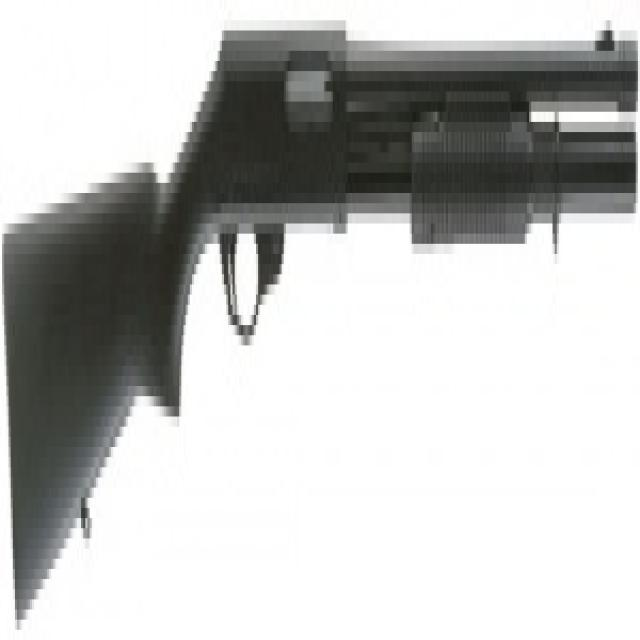rifle: (3, 1, 640, 631)
